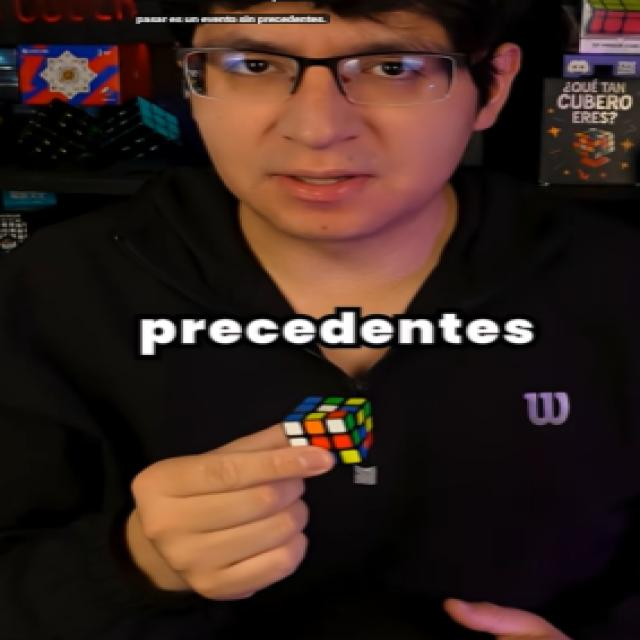Cubo-No-resuelto: (275, 385, 384, 472)
